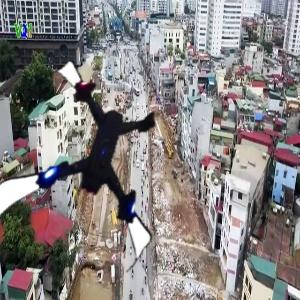drone: (3, 81, 190, 268)
